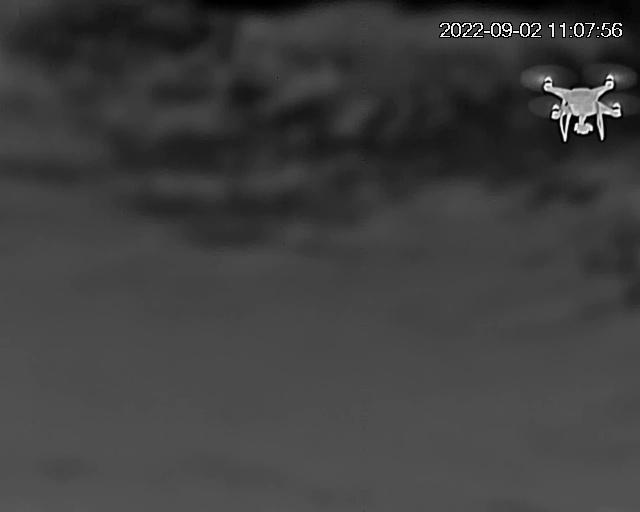DJI-Phantom: (527, 61, 637, 153)
